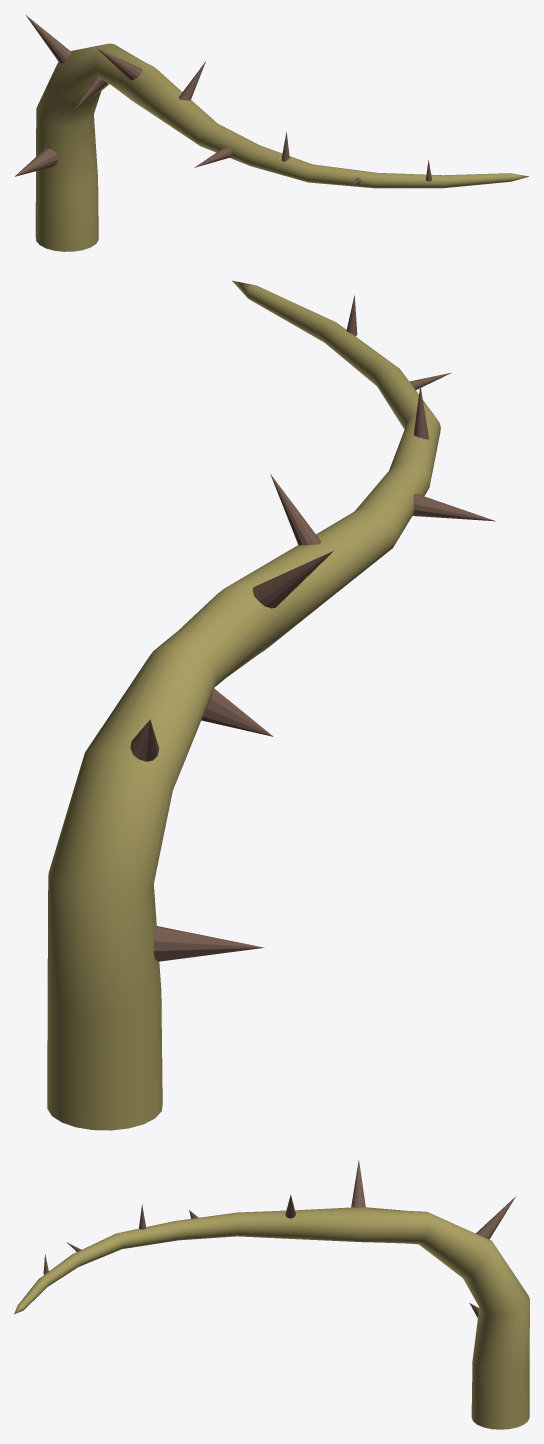
Rendered from vine_thorns_1.fbx.
3 renders of one model, top to bottom at view 1: azimuth 30°, elevation 25°; view 2: azimuth 150°, elevation 25°; view 3: azimuth 270°, elevation 25°, orthographic. The views are drawn at different scales.
Parts seen in each view (by area): view 1: polySurface12; view 2: polySurface12; view 3: polySurface12.
Boxes of the visible parts, bbox=[...] form: polySurface12: bbox=[14, 15, 529, 251]; polySurface12: bbox=[47, 280, 495, 1130]; polySurface12: bbox=[14, 1160, 529, 1429].
Size of the model in its own units: 6.97 by 6.45 by 12.74.
